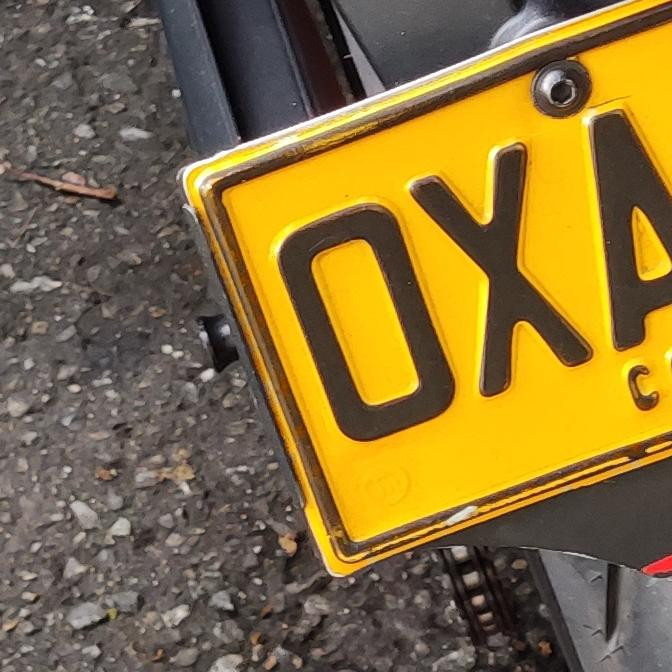plates: (183, 0, 672, 575)
